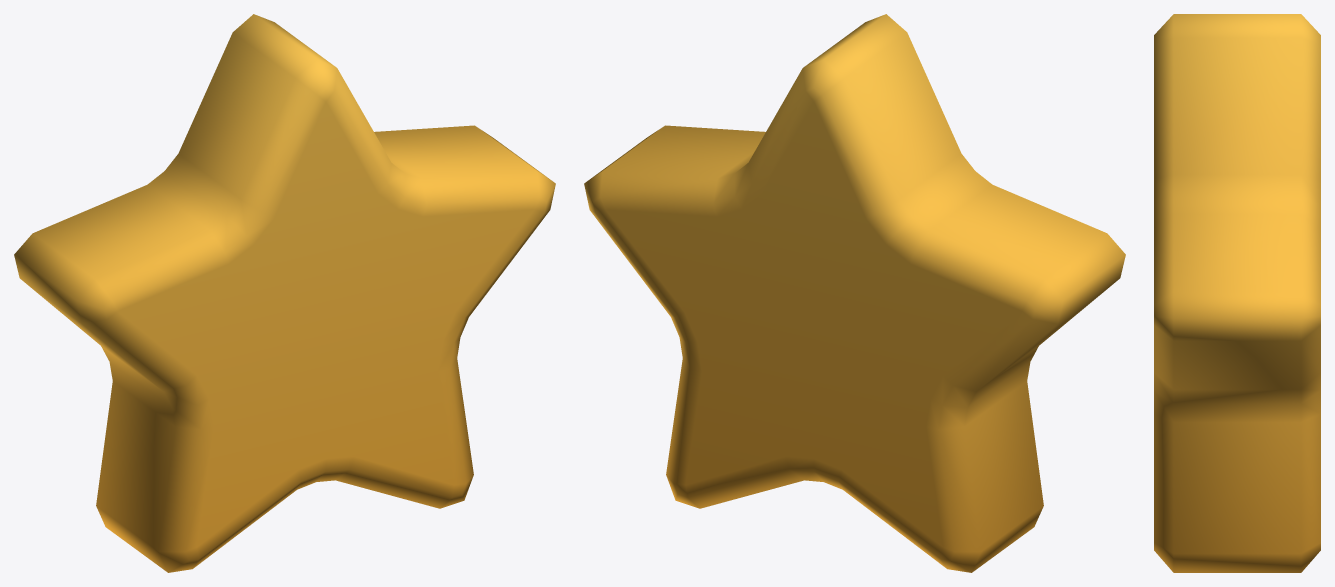
File: platform_kit033.fbx
The picture shows the model from 3 angles, left to right: view 1: azimuth 30°, elevation 25°; view 2: azimuth 150°, elevation 25°; view 3: azimuth 270°, elevation 25°; orthographic projection.
Visible parts, largest first — view 1: platform_kit033; view 2: platform_kit033; view 3: platform_kit033.
Boxes of the visible parts, x1,y1,x2,y2 form: platform_kit033: (14, 14, 555, 572); platform_kit033: (584, 14, 1125, 572); platform_kit033: (1154, 14, 1320, 572).
Size of the model in its own units: 64.34 by 61.47 by 19.07.
1 material, 1 textured.
